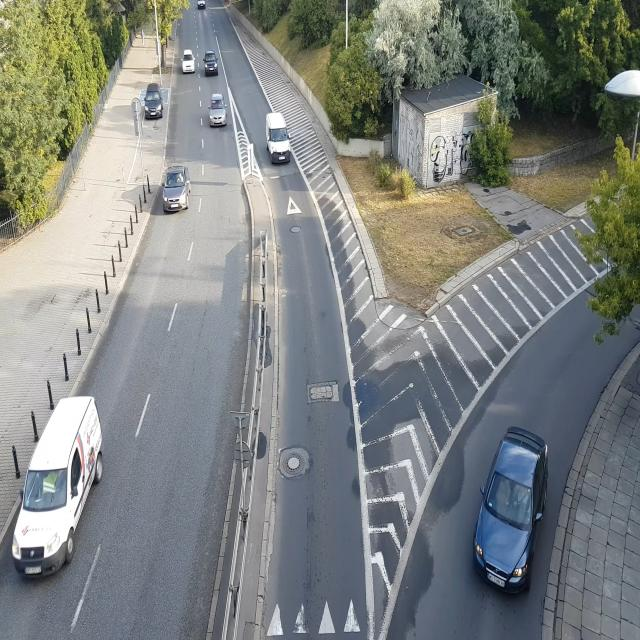car: (10, 400, 106, 580), (469, 410, 553, 594), (267, 114, 294, 166), (162, 168, 191, 215), (143, 88, 165, 119), (209, 95, 229, 129), (204, 50, 220, 76), (183, 50, 196, 74)
